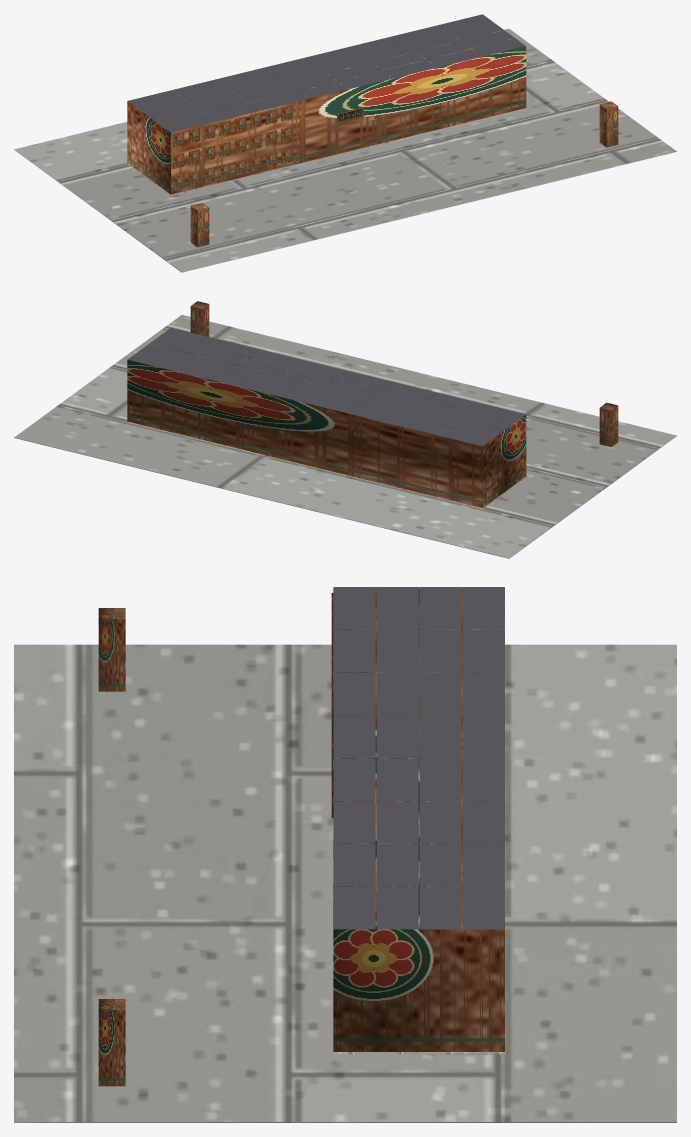
3 views of the same model, one above another, from view 1: azimuth 30°, elevation 25°; view 2: azimuth 150°, elevation 25°; view 3: azimuth 270°, elevation 25° (orthographic). The views are drawn at different scales.
Parts seen in each view (by area): view 1: 11680_01_06032_039_01_L2__base, 11680_01_06032_039_02_L2__body, 11680_01_06032_039_03_L2__roof, 11680_01_06032_039_05_L2__openings, 11680_01_06032_039_06_L2__green; view 2: 11680_01_06032_039_01_L2__base, 11680_01_06032_039_02_L2__body, 11680_01_06032_039_03_L2__roof, 11680_01_06032_039_06_L2__green; view 3: 11680_01_06032_039_01_L2__base, 11680_01_06032_039_03_L2__roof, 11680_01_06032_039_02_L2__body, 11680_01_06032_039_06_L2__green.
Boxes of the visible parts, left/top/right/bottom form: 11680_01_06032_039_01_L2__base: left=14, top=28, right=676, bottom=272; 11680_01_06032_039_02_L2__body: left=127, top=22, right=526, bottom=194; 11680_01_06032_039_03_L2__roof: left=128, top=14, right=525, bottom=132; 11680_01_06032_039_05_L2__openings: left=173, top=105, right=292, bottom=190; 11680_01_06032_039_06_L2__green: left=190, top=101, right=618, bottom=247; 11680_01_06032_039_01_L2__base: left=14, top=315, right=676, bottom=558; 11680_01_06032_039_02_L2__body: left=127, top=335, right=526, bottom=508; 11680_01_06032_039_03_L2__roof: left=128, top=328, right=525, bottom=445; 11680_01_06032_039_06_L2__green: left=190, top=301, right=618, bottom=446; 11680_01_06032_039_01_L2__base: left=14, top=644, right=676, bottom=1122; 11680_01_06032_039_03_L2__roof: left=333, top=587, right=504, bottom=929; 11680_01_06032_039_02_L2__body: left=333, top=587, right=504, bottom=1051; 11680_01_06032_039_06_L2__green: left=98, top=608, right=125, bottom=1086.
Size of the model in its own units: 92 by 11.32 by 54.
5 materials, 5 textured.
